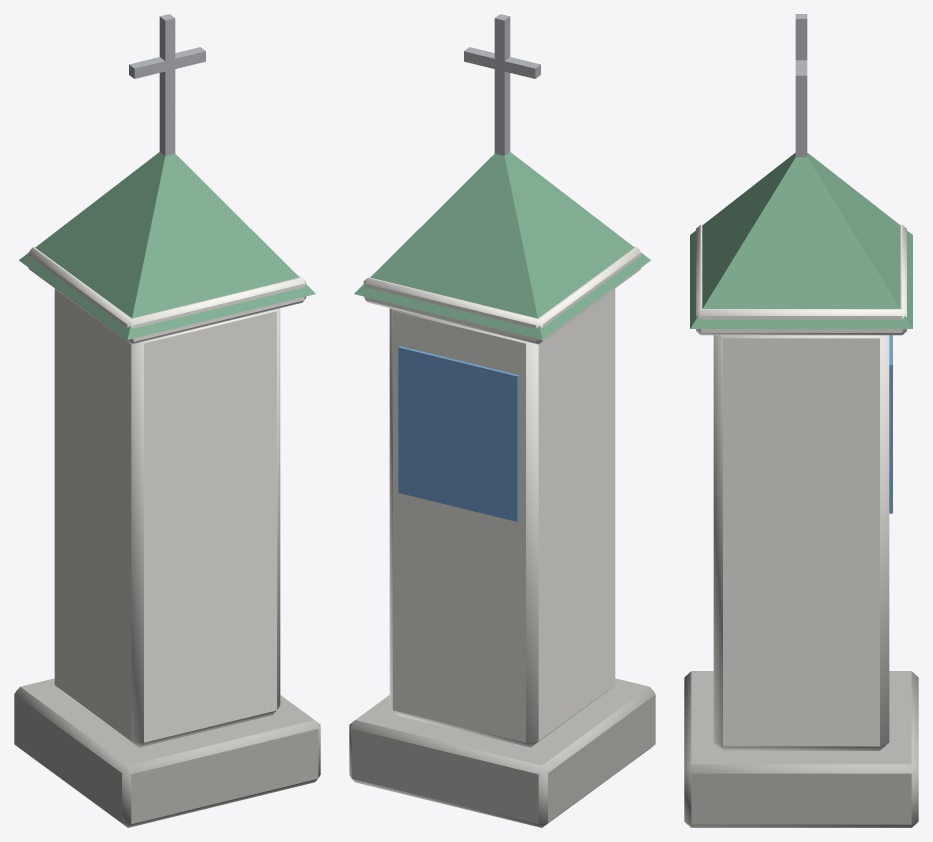
The model's file is Kapliczka.fbx.
3 renders of one model, left to right at view 1: azimuth 30°, elevation 25°; view 2: azimuth 150°, elevation 25°; view 3: azimuth 270°, elevation 25°, orthographic. The views are drawn at different scales.
Visible parts, largest first — view 1: Kapliczka; view 2: Kapliczka; view 3: Kapliczka.
Boxes of the visible parts, x1=… form: Kapliczka: x1=14, y1=14, x2=320, y2=827; Kapliczka: x1=349, y1=14, x2=655, y2=827; Kapliczka: x1=684, y1=14, x2=918, y2=827.
Size of the model in its own units: 1 by 3.6 by 1.
